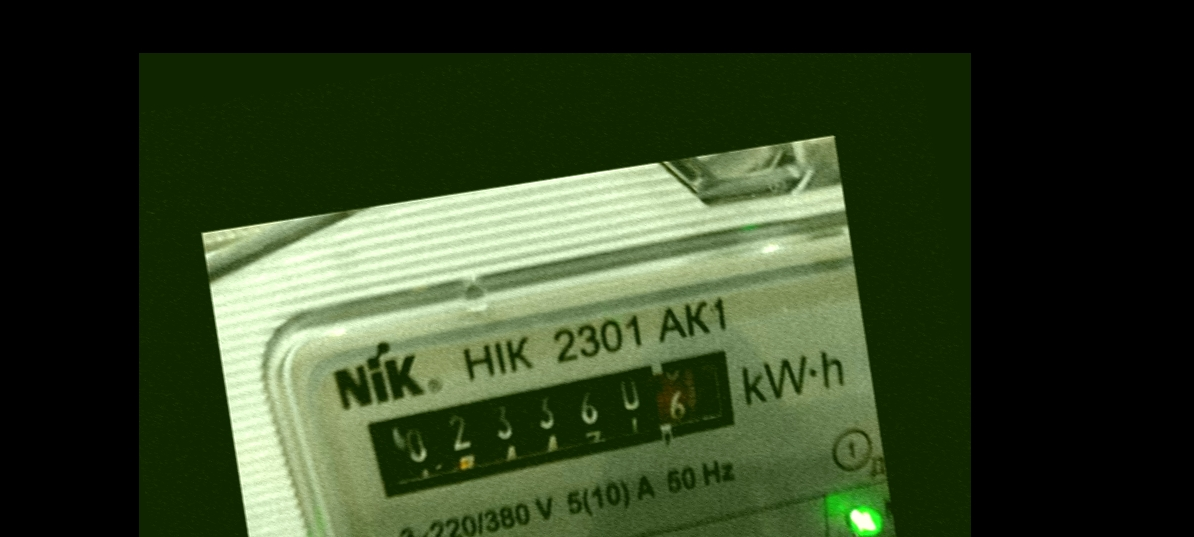0: (401, 422, 432, 467), (616, 374, 645, 414)
2: (444, 409, 476, 453)
3: (531, 392, 559, 433), (490, 401, 517, 443)
6: (573, 385, 605, 430), (666, 386, 692, 425)
screen: (342, 334, 756, 512)
